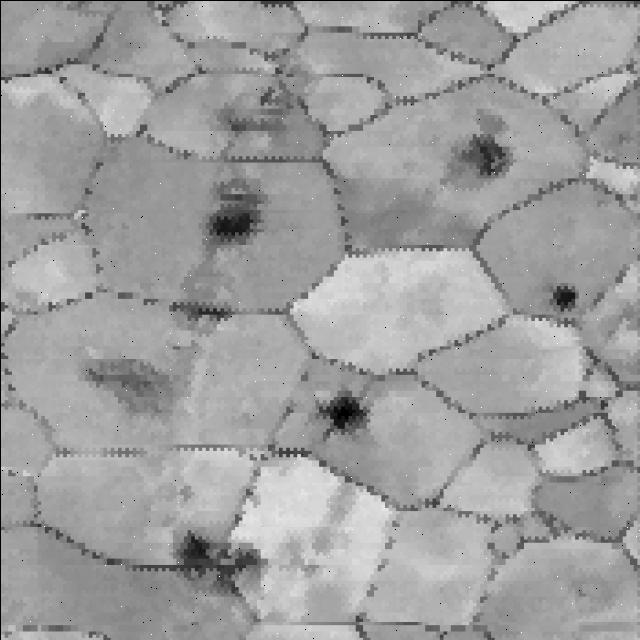good_void: (79, 339, 198, 426), (166, 522, 271, 593), (209, 72, 303, 150), (198, 181, 270, 246), (315, 388, 370, 441), (465, 138, 515, 185), (164, 294, 237, 323), (549, 275, 580, 319), (554, 576, 591, 605)
